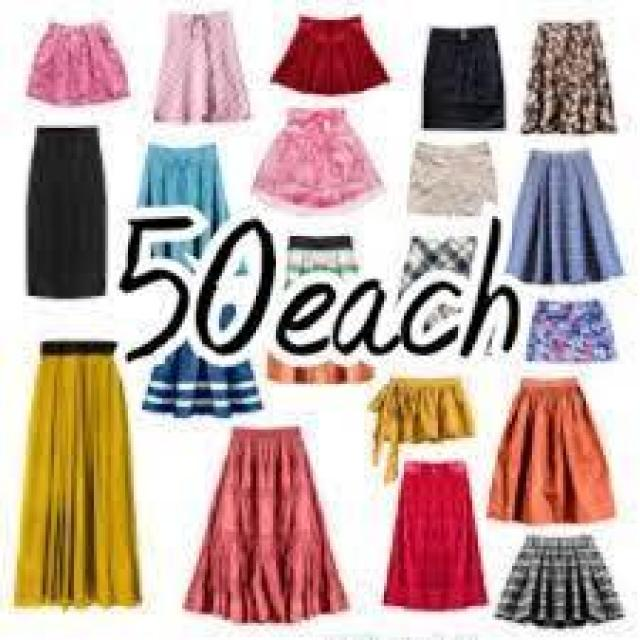skirt: (17, 333, 145, 617), (184, 422, 346, 628), (483, 374, 623, 531), (14, 120, 114, 307), (505, 148, 630, 293), (382, 459, 488, 622), (253, 106, 393, 218), (495, 532, 631, 631), (520, 14, 623, 142), (149, 11, 252, 128), (259, 13, 404, 95), (415, 27, 515, 138), (26, 18, 128, 106), (370, 370, 480, 449), (405, 139, 505, 225), (524, 293, 618, 370)
